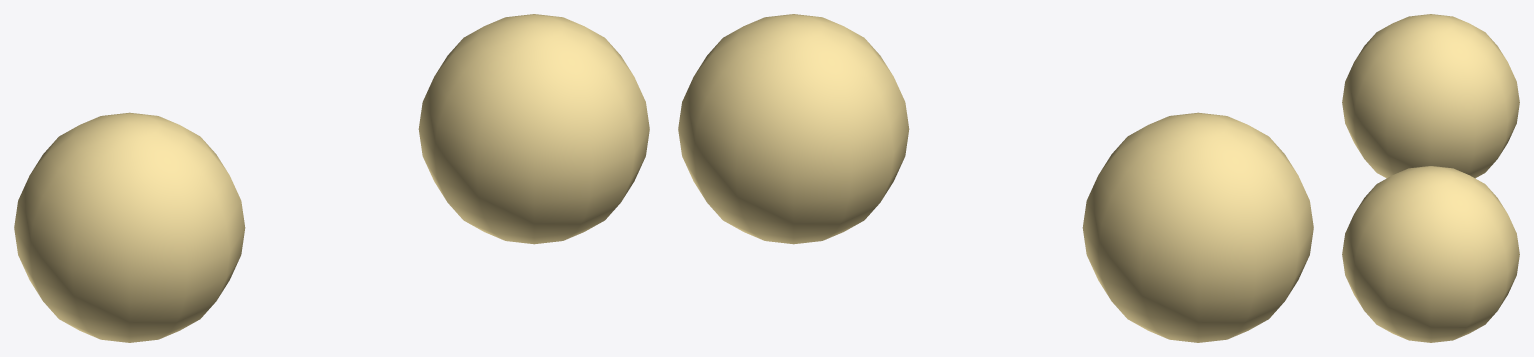
Rendered from mole.fbx.
3 renders of one model, left to right at view 1: azimuth 30°, elevation 25°; view 2: azimuth 150°, elevation 25°; view 3: azimuth 270°, elevation 25°, orthographic. The views are drawn at different scales.
Visible parts, largest first — view 1: pSphere1, pSphere2; view 2: pSphere1, pSphere2; view 3: pSphere2, pSphere1.
Part boxes in pixels (x1,y1,x2,y2): pSphere1: (14, 112, 245, 342); pSphere2: (418, 14, 649, 244); pSphere1: (1082, 112, 1313, 342); pSphere2: (678, 14, 909, 244); pSphere2: (1342, 166, 1519, 342); pSphere1: (1342, 14, 1519, 178).
Bounding box in the file's own units: 6.04 × 2 × 2.
